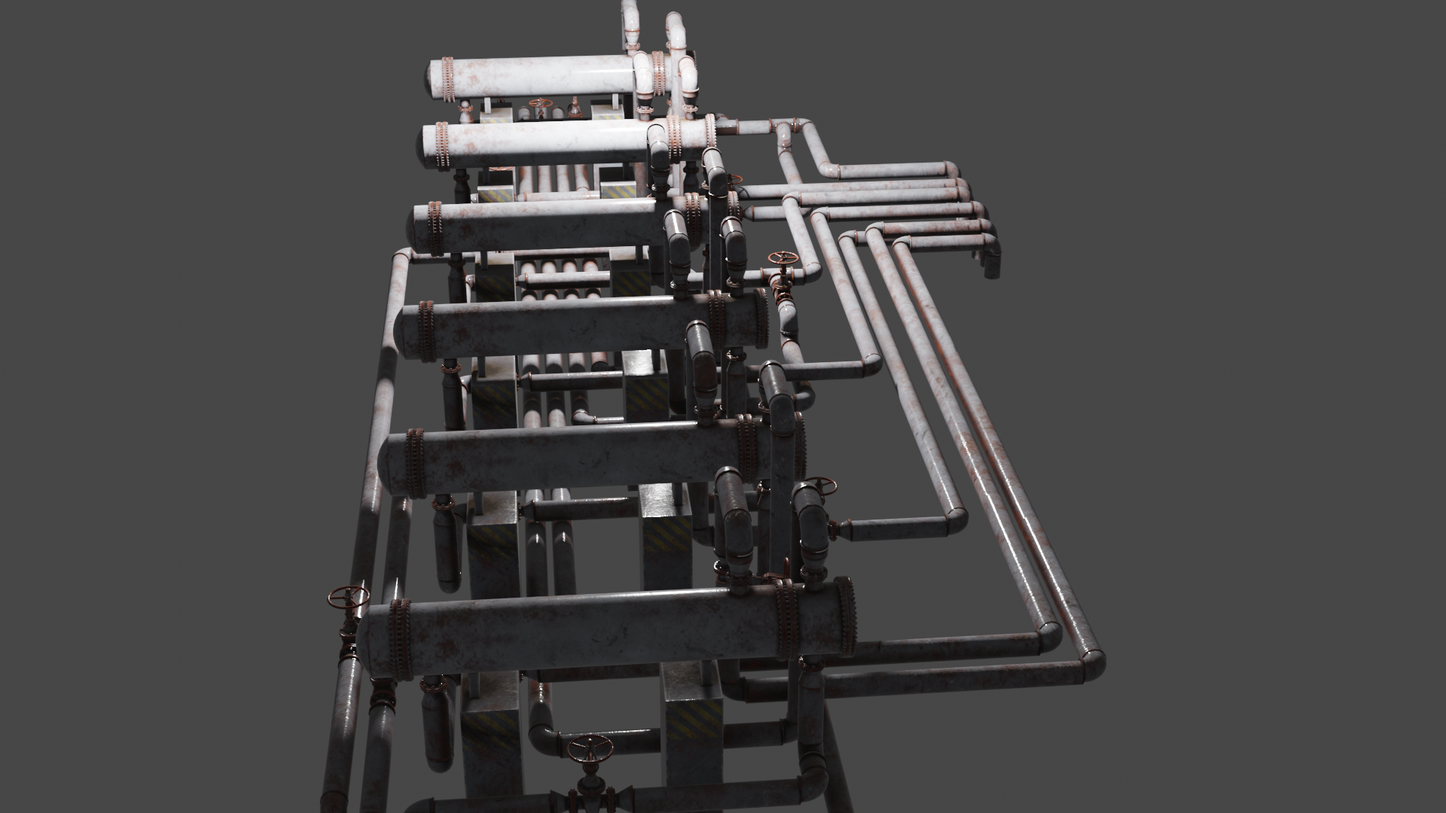HE_1: (349, 574, 860, 688)
HE_2: (373, 410, 808, 504)
HE_3: (388, 287, 768, 362)
HE_4: (399, 188, 743, 254)
HE_5: (408, 110, 720, 170)
HE_6: (423, 50, 704, 100)
